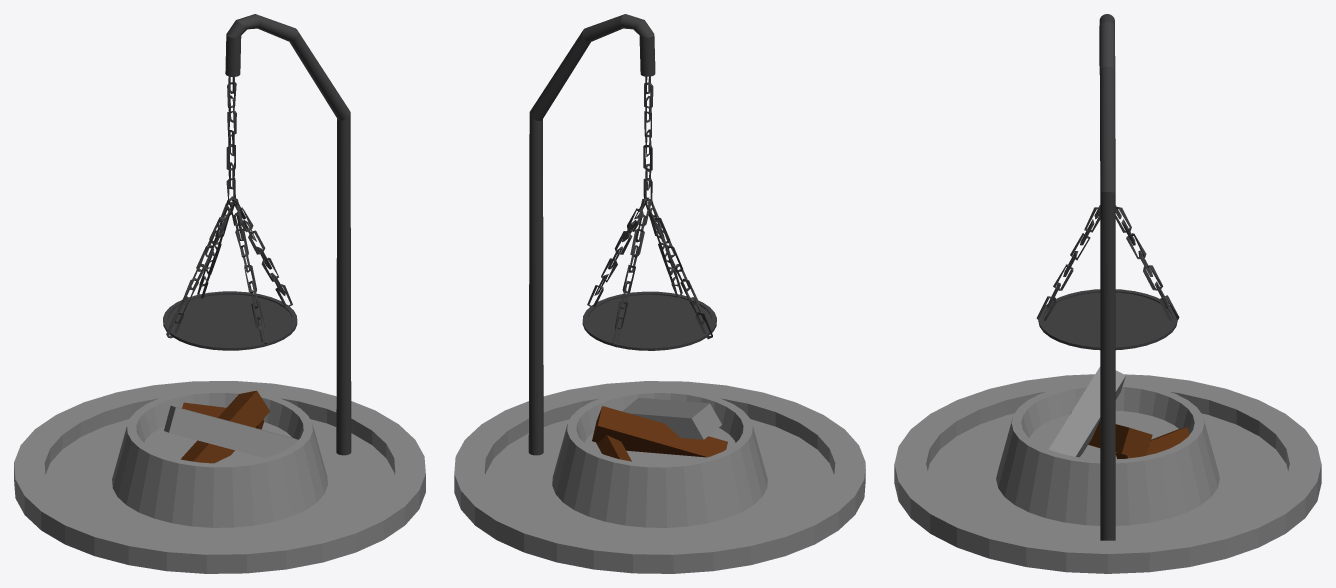
File: Feuerstelle.fbx
3 renders of one model, left to right at view 1: azimuth 30°, elevation 25°; view 2: azimuth 150°, elevation 25°; view 3: azimuth 270°, elevation 25°, orthographic. The views are drawn at different scales.
Visible parts, largest first — view 1: Boden, BodenInnen, Stange, Gitter, Ketten, Holz; view 2: Boden, BodenInnen, Stange, Gitter, Ketten, Holz; view 3: Boden, BodenInnen, Stange, Gitter, Ketten, Holz.
Boxes of the visible parts, x1,y1,x2,y2 form: Boden: [14, 381, 425, 573]; BodenInnen: [112, 389, 327, 527]; Stange: [225, 14, 351, 455]; Gitter: [163, 291, 297, 350]; Ketten: [166, 76, 292, 343]; Holz: [181, 390, 269, 463]; Boden: [454, 381, 865, 573]; BodenInnen: [552, 389, 767, 527]; Stange: [528, 14, 655, 455]; Gitter: [582, 291, 716, 350]; Ketten: [587, 76, 712, 344]; Holz: [592, 406, 727, 461]; Boden: [894, 374, 1321, 573]; BodenInnen: [996, 366, 1219, 525]; Stange: [1099, 14, 1115, 540]; Gitter: [1038, 289, 1177, 350]; Ketten: [1036, 205, 1179, 321]; Holz: [1070, 412, 1189, 458].
Bounding box in the file's own units: 200 × 248 × 200.
